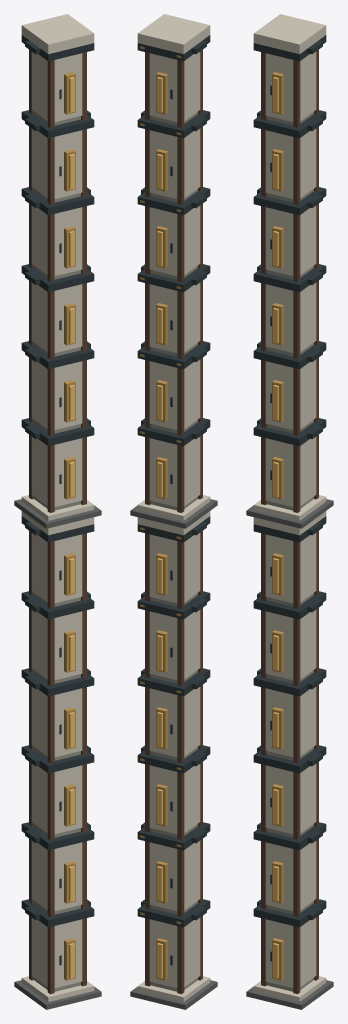
3 renders of one model, left to right at view 1: azimuth 30°, elevation 25°; view 2: azimuth 150°, elevation 25°; view 3: azimuth 330°, elevation 25°, orthographic.
Parts seen in each view (by area): view 1: 天枢每六层石基与巨柱 (×2); view 2: 天枢每六层石基与巨柱 (×2); view 3: 天枢每六层石基与巨柱 (×2).
Part boxes in pixels (left/top/right/bottom): 天枢每六层石基与巨柱 (×2): left=14, top=14, right=101, bottom=1009; 天枢每六层石基与巨柱 (×2): left=130, top=14, right=217, bottom=1009; 天枢每六层石基与巨柱 (×2): left=246, top=14, right=333, bottom=1009.
Bounding box in the file's own units: 2.4 × 40 × 2.4.
7 materials, 7 textured.
